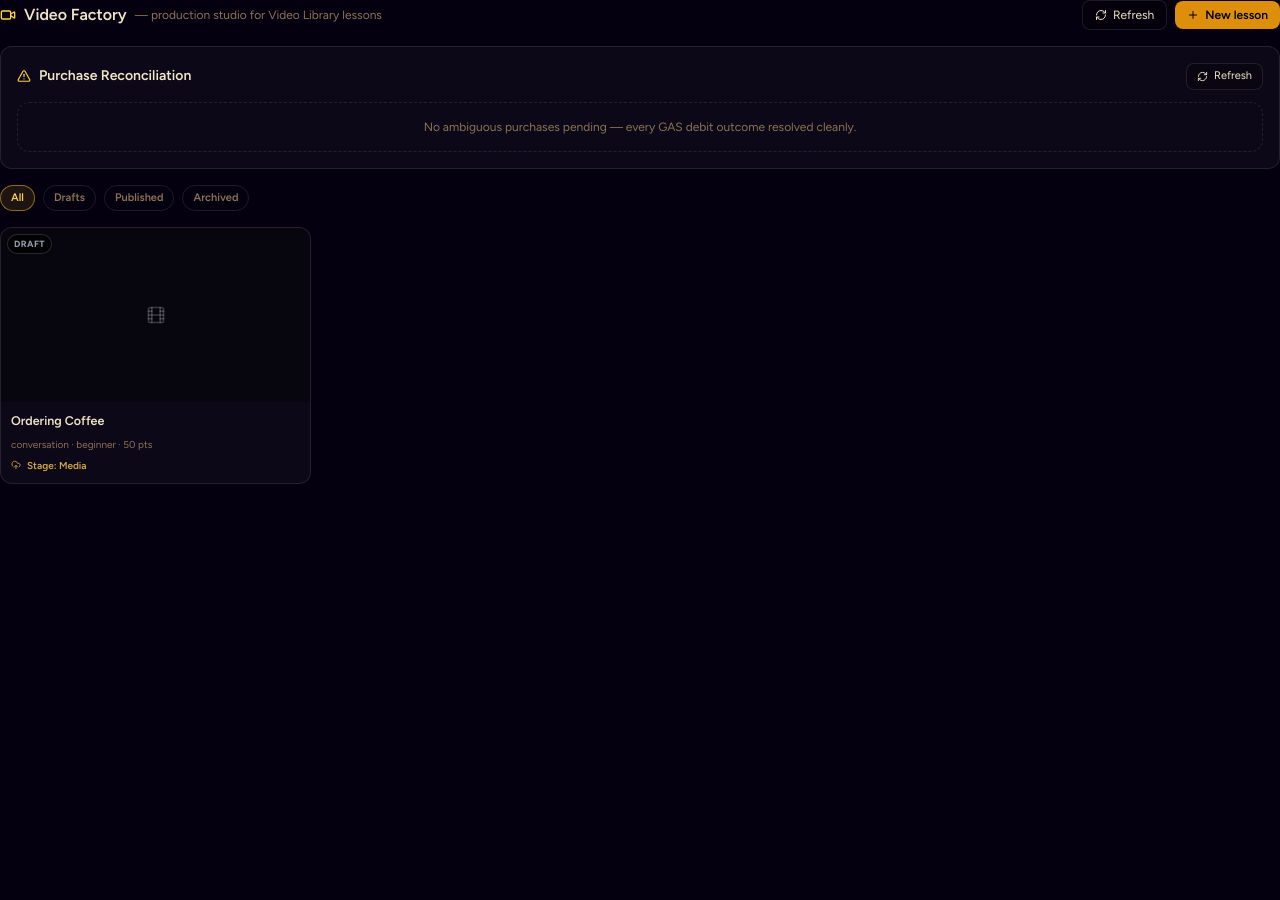
it: Analytics stage renders backend stats
Click the button with test id "video-factory-lesson-vid_1" at (156, 355), box [0,227,311,484]
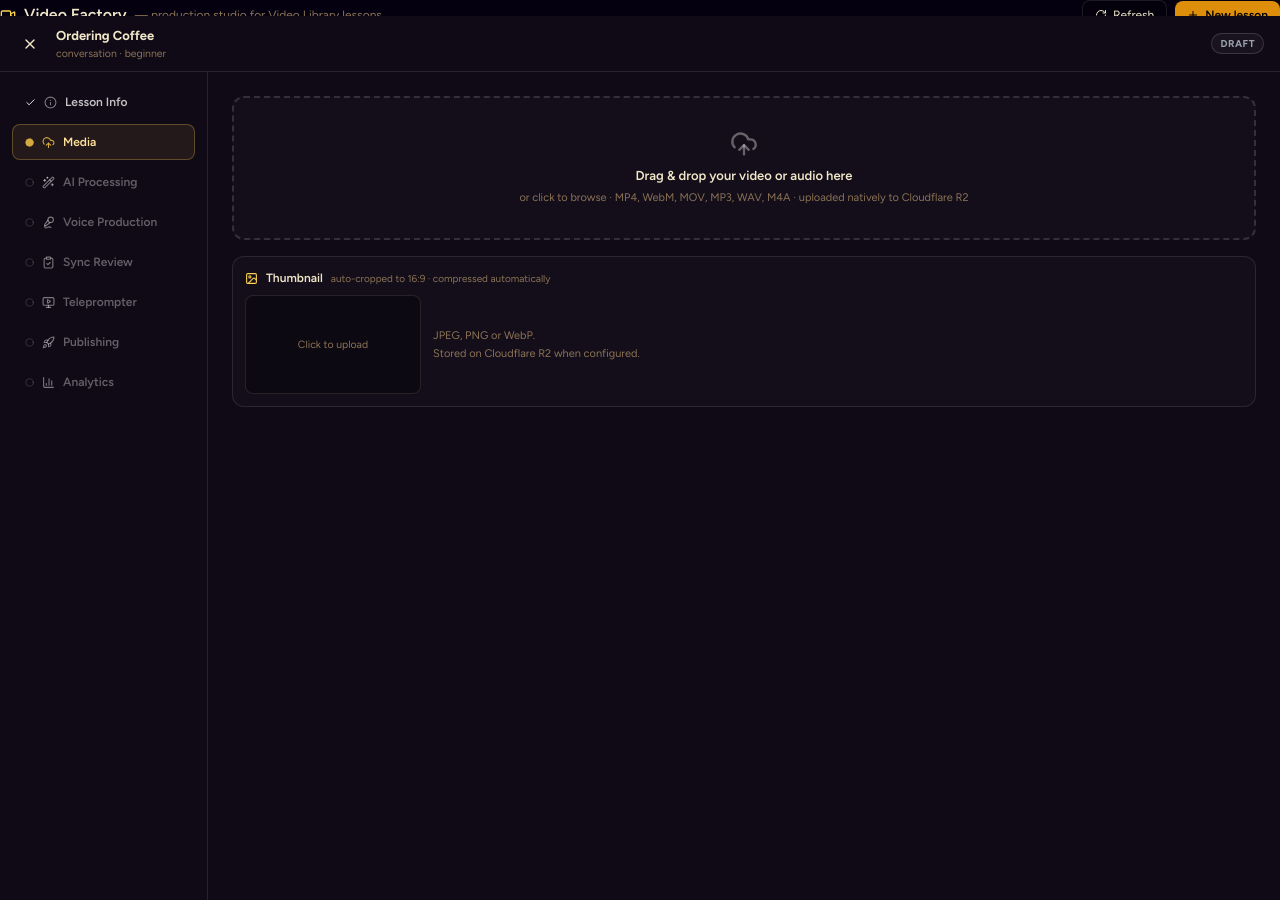
Click the button with test id "production-stage-analytics" at (104, 382), box [12,364,195,400]
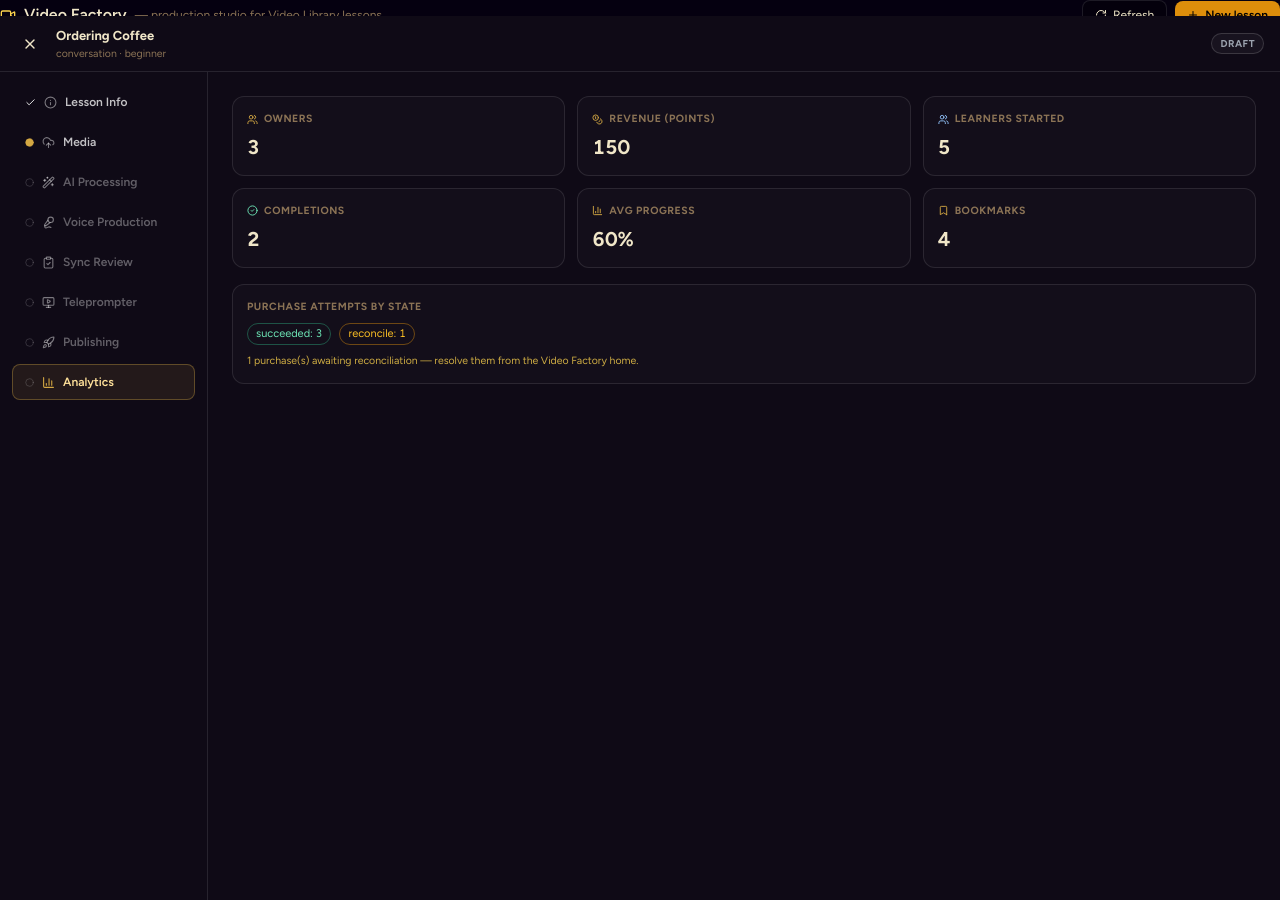
expect the element with test id "production-analytics-panel" is shown: met, box [232,96,1256,384]
expect the element with test id "analytics-purchase-states" shows "reconcile: 1": met, box [232,284,1256,384]
